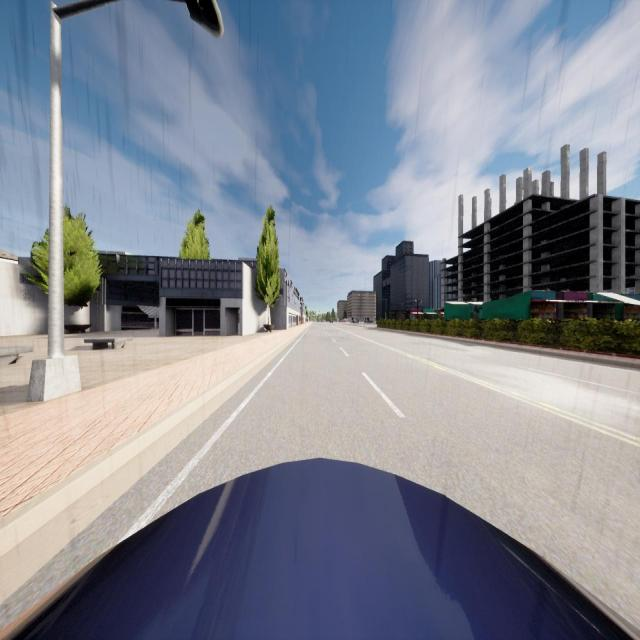Vehicle: (1, 457, 640, 640), (350, 319, 359, 323), (364, 319, 373, 323), (330, 320, 333, 324)
